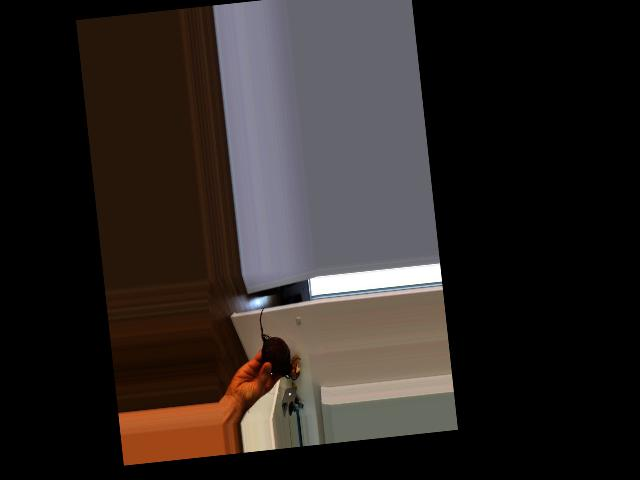beet: (256, 304, 293, 380)
